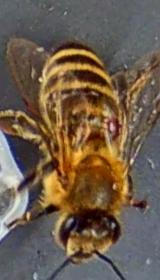varroa_mite: (91, 107, 127, 146)
